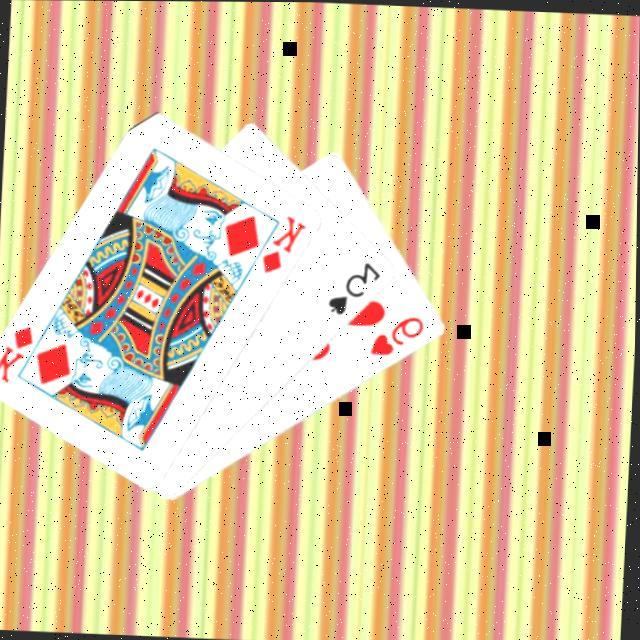3S: (323, 258, 384, 320)
9H: (366, 312, 428, 362)
KD: (258, 212, 308, 280), (0, 322, 37, 387)
